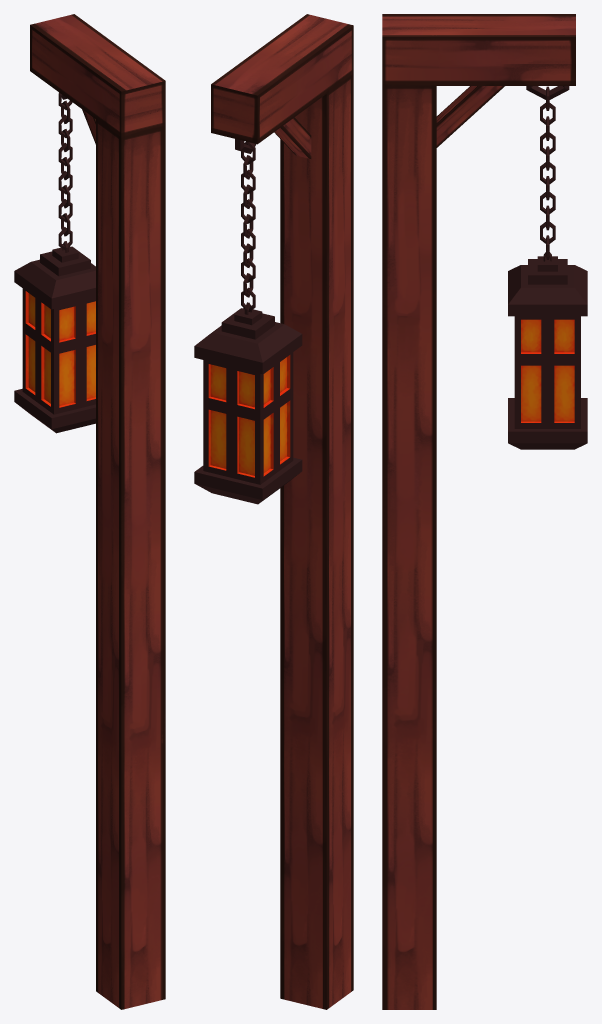
The model's file is lvl1_lampPost.fbx.
The picture shows the model from 3 angles, left to right: view 1: azimuth 30°, elevation 25°; view 2: azimuth 150°, elevation 25°; view 3: azimuth 270°, elevation 25°; orthographic projection. The views are drawn at different scales.
Parts seen in each view (by area): view 1: lampPost; view 2: lampPost; view 3: lampPost.
Part boxes in pixels (x1,y1,x2,y2): lampPost: (14,14,165,1009); lampPost: (194,14,353,1009); lampPost: (382,14,587,1009).
Bounding box in the file's own units: 13.59 × 183 × 35.02.
